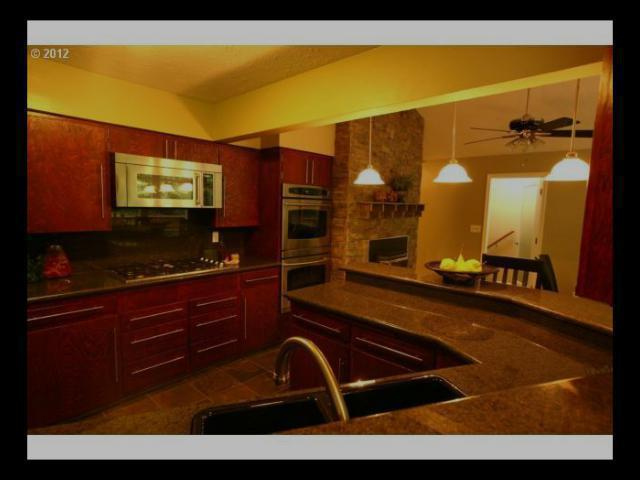Lavaplatos: (199, 333, 475, 434)
